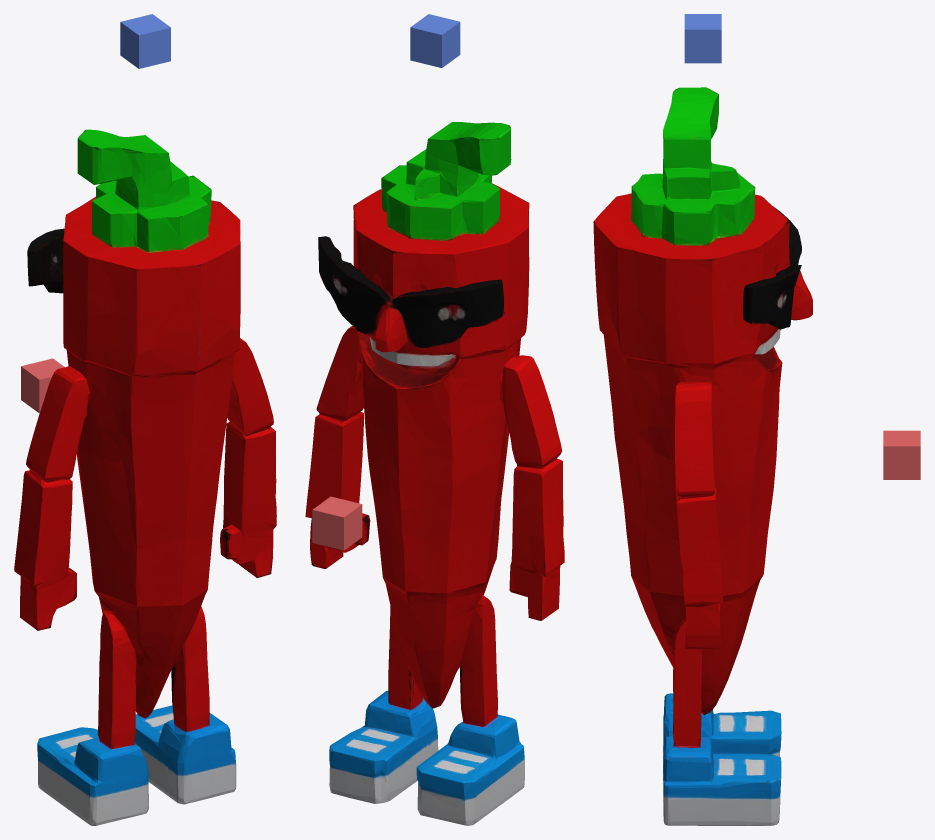
Rendered from PeperoncinoFigo.glb.
3 renders of one model, left to right at view 1: azimuth 30°, elevation 25°; view 2: azimuth 150°, elevation 25°; view 3: azimuth 270°, elevation 25°, orthographic.
Parts seen in each view (by area): view 1: PeperoncinoFigo_Body, PeperoncinoFigo_Leg2, PeperoncinoFigo_Leg1, PeperoncinoFigo_Top, PeperoncinoFigo_Front; view 2: PeperoncinoFigo_Body, PeperoncinoFigo_Leg2, PeperoncinoFigo_Leg1, PeperoncinoFigo_Front, PeperoncinoFigo_Top; view 3: PeperoncinoFigo_Body, PeperoncinoFigo_Leg1, PeperoncinoFigo_Leg2, PeperoncinoFigo_Front, PeperoncinoFigo_Top.
Part boxes in pixels (x1,y1,x2,y2): PeperoncinoFigo_Body: (14, 129, 276, 762); PeperoncinoFigo_Leg2: (37, 727, 148, 825); PeperoncinoFigo_Leg1: (134, 705, 236, 804); PeperoncinoFigo_Top: (120, 14, 170, 68); PeperoncinoFigo_Front: (21, 358, 64, 413); PeperoncinoFigo_Body: (305, 122, 564, 769); PeperoncinoFigo_Leg2: (416, 705, 524, 825); PeperoncinoFigo_Leg1: (329, 690, 438, 803); PeperoncinoFigo_Front: (312, 496, 362, 550); PeperoncinoFigo_Top: (410, 14, 460, 67); PeperoncinoFigo_Body: (593, 87, 812, 746); PeperoncinoFigo_Leg1: (663, 735, 781, 825); PeperoncinoFigo_Leg2: (663, 693, 781, 764); PeperoncinoFigo_Front: (883, 430, 920, 479); PeperoncinoFigo_Top: (684, 14, 721, 63).
Bounding box in the file's own units: 1.9 × 5.72 × 2.21.
1 material, 1 textured.
